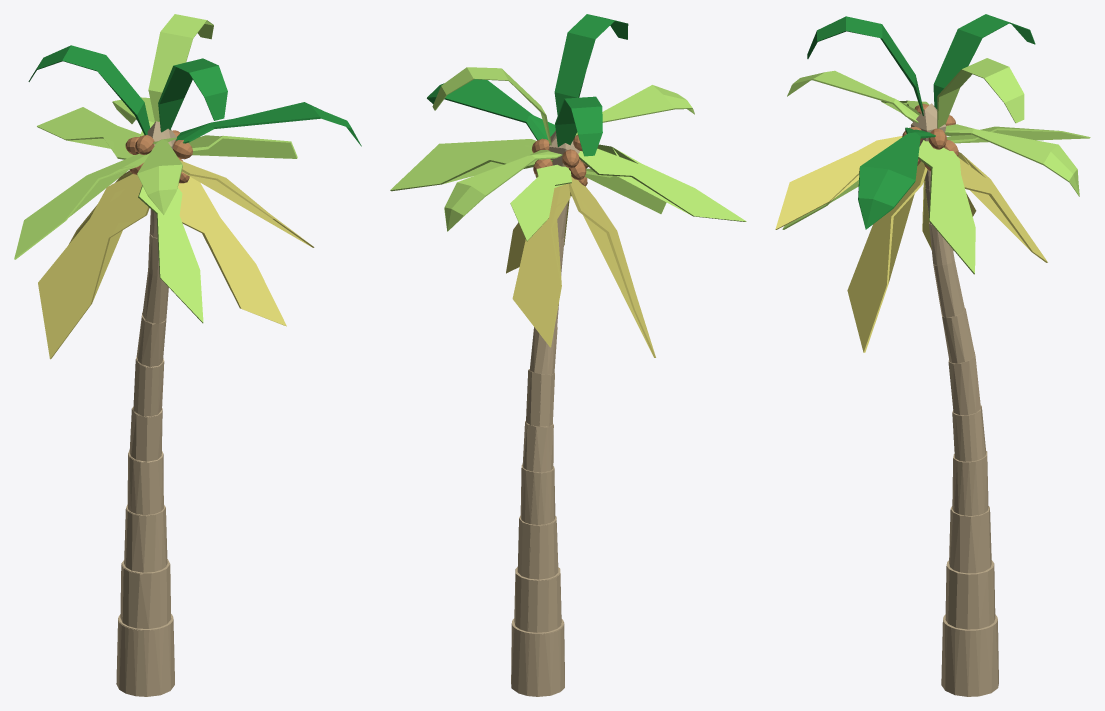
The model's file is palm_coco.fbx.
3 views of the same model, side by side, from view 1: azimuth 30°, elevation 25°; view 2: azimuth 150°, elevation 25°; view 3: azimuth 270°, elevation 25° (orthographic). The views are drawn at different scales.
Visible parts, largest first — view 1: branch_top, leaf_light.003, leaf_light.006, branch, leaf_light.002, leaf_light.001, branch_down, leaf, leaf.002, leaf_light.004, leaf.001, leaf.005 (+3 smaller); view 2: branch_top, branch, leaf_light.005, leaf_light, leaf_light.001, leaf_light.003, leaf, leaf.004, leaf.003, branch_down, leaf_light.004, leaf.001 (+4 smaller); view 3: branch, leaf_light.006, leaf_light, leaf.003, leaf_light.007, leaf.002, leaf.004, leaf.001, leaf_light.005, leaf, leaf.005, leaf_light.004.
Boxes of the visible parts, x1,y1,x2,y2 form: branch_top: (120,122,171,628); leaf_light.003: (38,174,149,359); leaf_light.006: (178,177,286,326); branch: (118,121,176,694); leaf_light.002: (138,185,203,323); leaf_light.001: (14,152,150,259); branch_down: (116,618,170,696); leaf: (158,58,227,132); leaf.002: (148,14,213,121); leaf_light.004: (37,107,140,159); leaf.001: (28,45,149,135); leaf.005: (137,137,182,214); branch_top: (528,140,579,632); branch: (511,131,565,695); leaf_light.005: (512,183,570,347); leaf_light: (390,139,553,191); leaf_light.001: (578,144,746,221); leaf_light.003: (568,177,655,357); leaf: (554,14,628,115); leaf.004: (444,150,562,231); leaf.003: (427,79,555,140); branch_down: (512,621,564,696); leaf_light.004: (510,164,571,241); leaf.001: (555,96,602,156); branch: (911,103,998,696); leaf_light.006: (847,161,927,352); leaf_light: (918,140,975,274); leaf.003: (858,127,935,229); leaf_light.007: (775,136,902,229); leaf.002: (937,58,1024,128); leaf.004: (944,124,1079,196); leaf.001: (933,14,1035,109); leaf_light.005: (958,152,1047,262); leaf: (807,16,923,115); leaf.005: (787,70,920,123); leaf_light.004: (947,126,1090,143).
Bounding box in the file's own units: 335 × 624 × 271.
